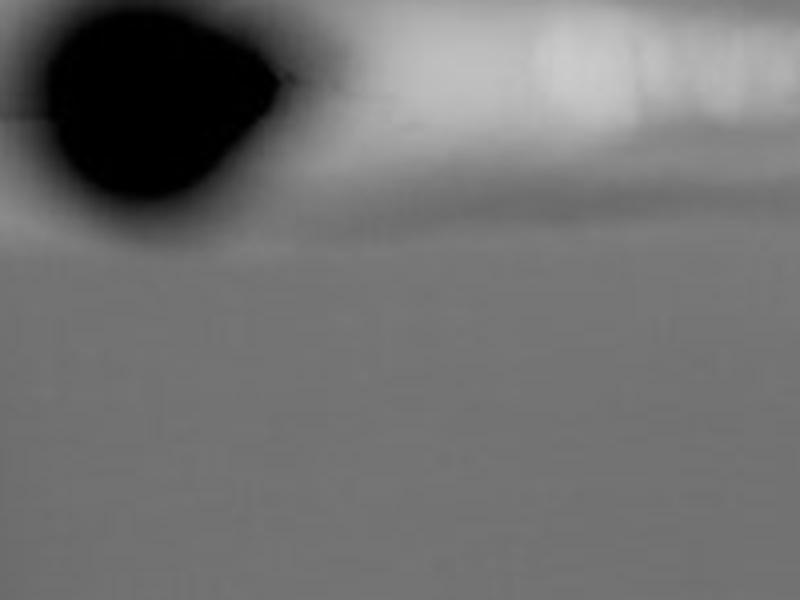defect: (34, 1, 280, 207)
